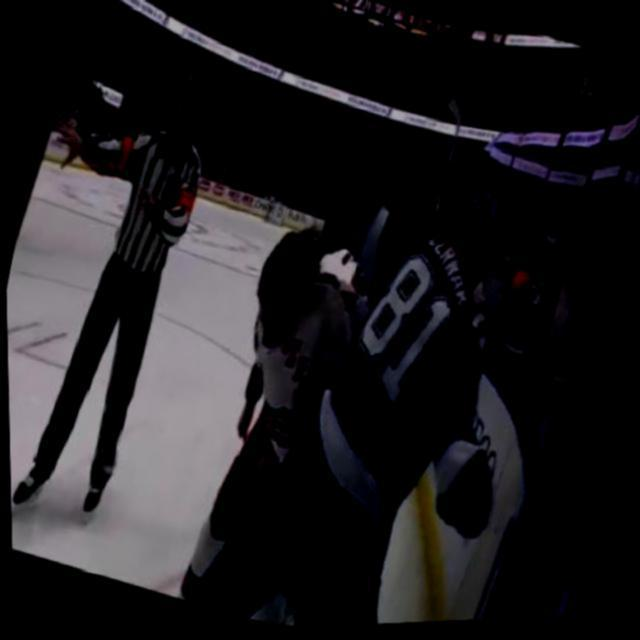fight: (143, 116, 578, 635)
